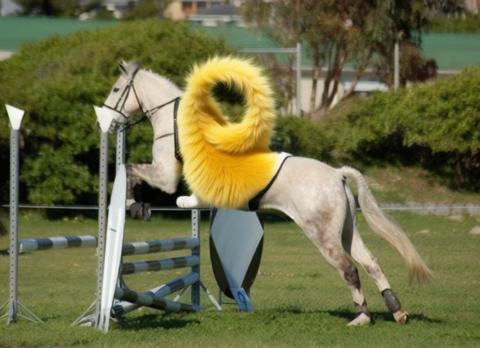cat: (174, 52, 277, 209)
horse: (89, 56, 427, 328)
